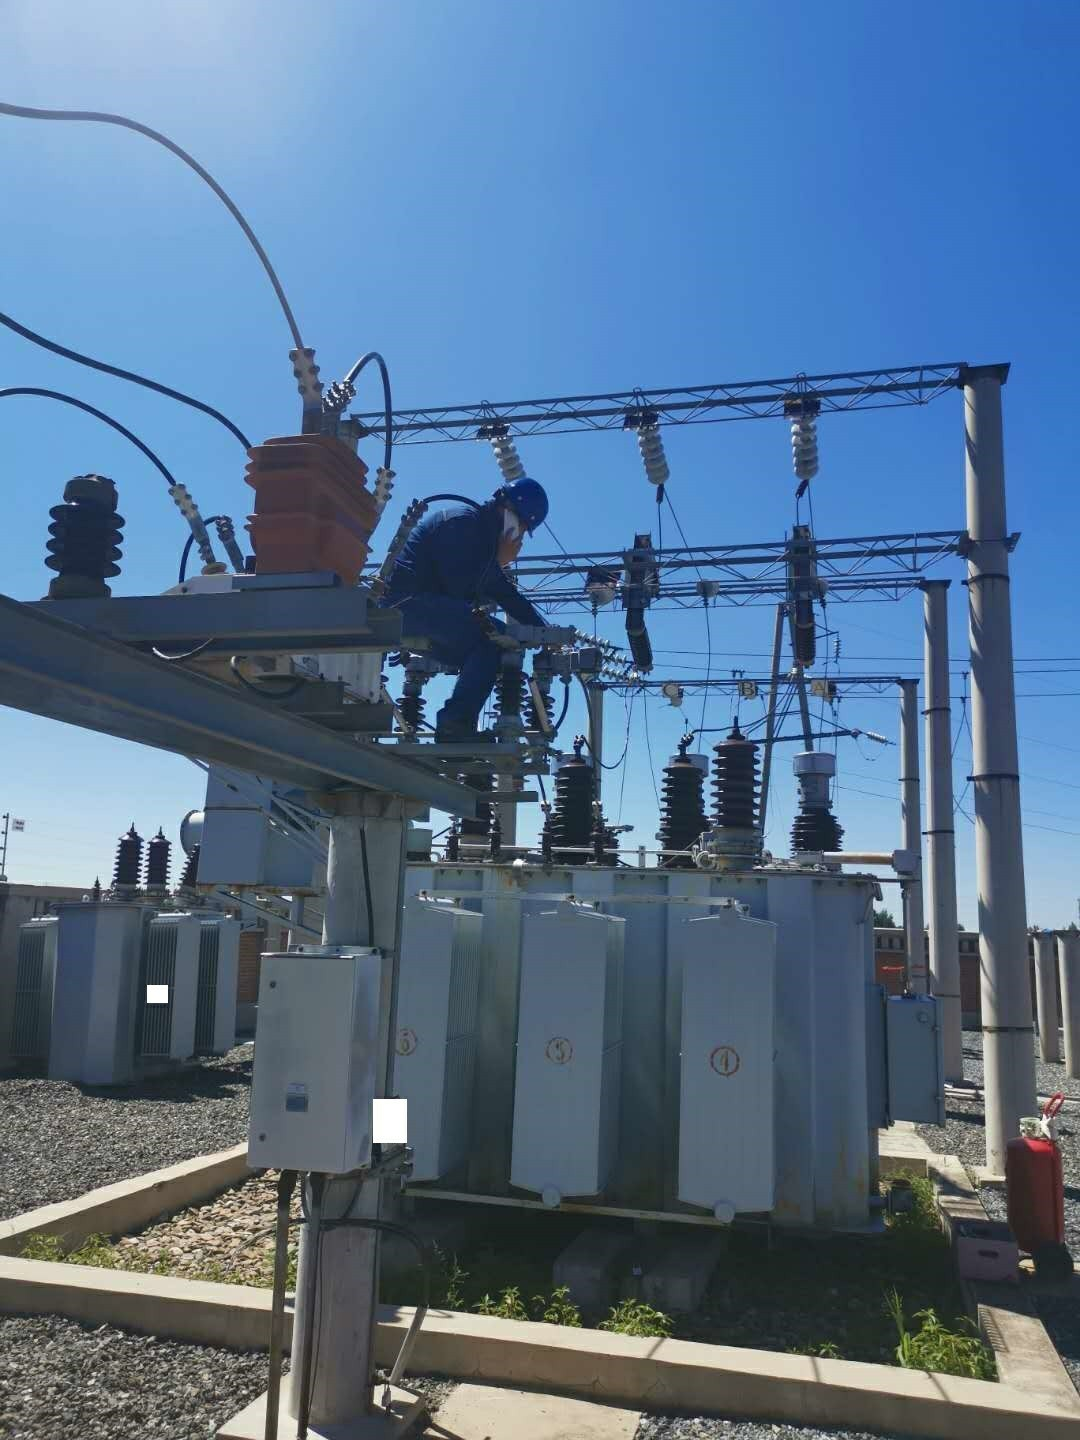hat: (487, 473, 552, 556)
